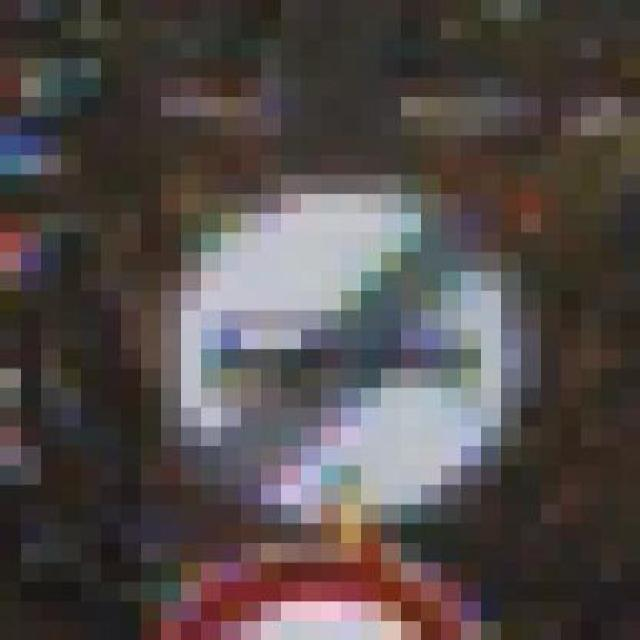No_Over_Taking: (120, 116, 560, 524)
